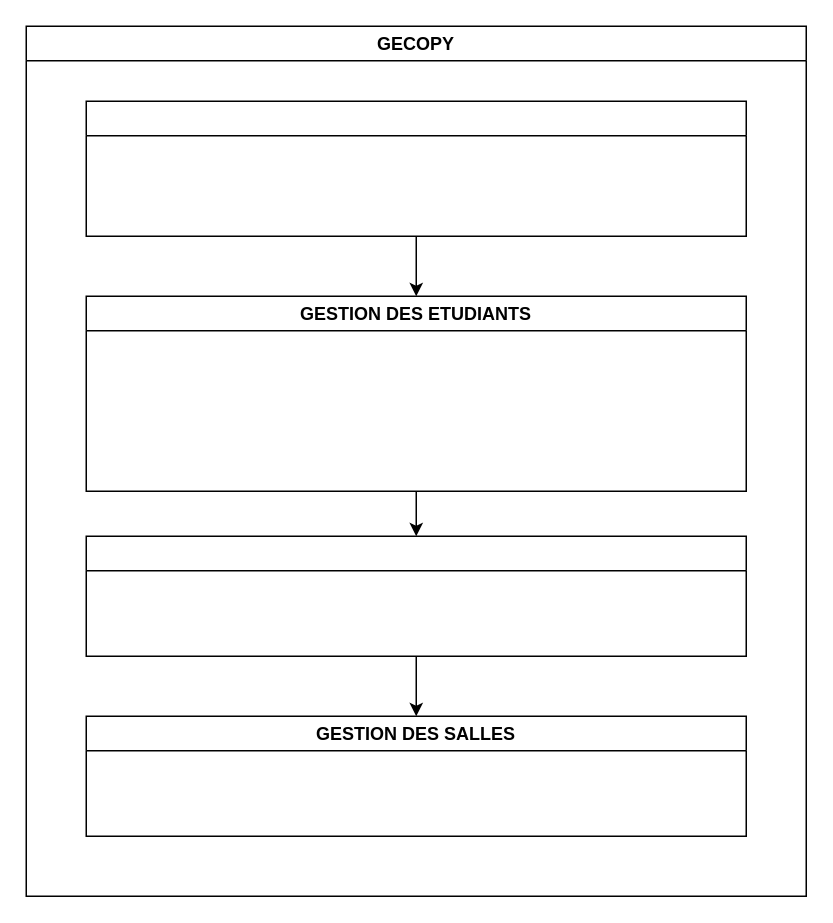
Image size: 833x923. Some labels were removed from this diagram. The centre of each missing label's shape, as x and y in pixels:
GESTION DES COURS: the point at 415,595
GESTION DES EMPLOYES: the point at 415,168
